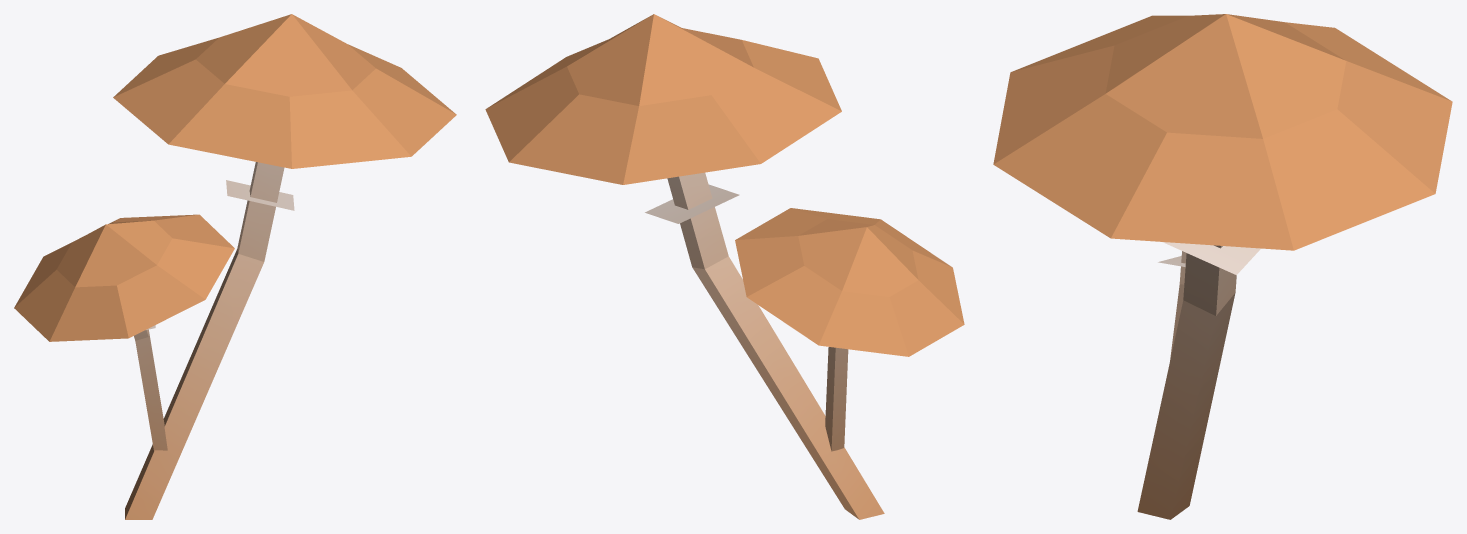
Rendered from Mushroom_i_09.fbx.
The picture shows the model from 3 angles, left to right: view 1: azimuth 30°, elevation 25°; view 2: azimuth 150°, elevation 25°; view 3: azimuth 270°, elevation 25°; orthographic projection. The views are drawn at different scales.
Parts seen in each view (by area): view 1: Mushroom_i_09; view 2: Mushroom_i_09; view 3: Mushroom_i_09.
Boxes of the visible parts, x1,y1,x2,y2 form: Mushroom_i_09: [14, 14, 456, 519]; Mushroom_i_09: [485, 14, 964, 519]; Mushroom_i_09: [993, 14, 1452, 519].
Size of the model in its own units: 0.3453 by 0.3626 by 0.2457.
